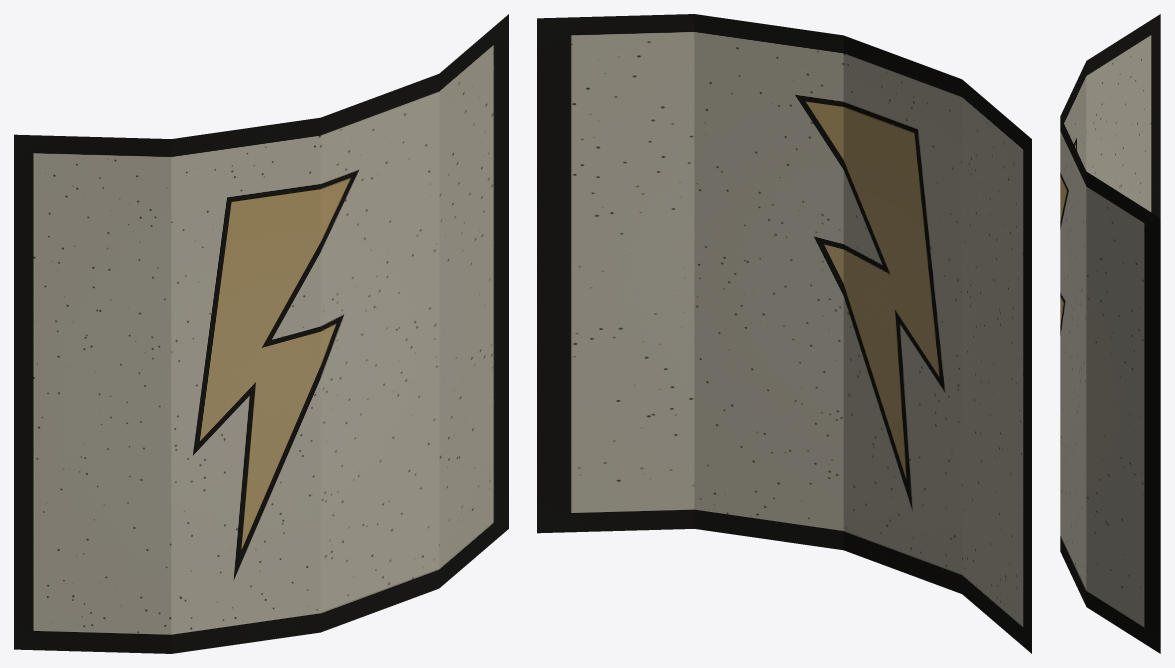
File: eletric_(pole)_(transformer).001_lighting_poster_0_lev3.glb
The picture shows the model from 3 angles, left to right: view 1: azimuth 30°, elevation 25°; view 2: azimuth 150°, elevation 25°; view 3: azimuth 270°, elevation 25°; orthographic projection. The views are drawn at different scales.
Parts seen in each view (by area): view 1: eletric_(pole)_(transformer).001_lighting_poster_0_lev3; view 2: eletric_(pole)_(transformer).001_lighting_poster_0_lev3; view 3: eletric_(pole)_(transformer).001_lighting_poster_0_lev3.
Part boxes in pixels (x1,y1,x2,y2): eletric_(pole)_(transformer).001_lighting_poster_0_lev3: [14, 14, 508, 653]; eletric_(pole)_(transformer).001_lighting_poster_0_lev3: [537, 14, 1031, 653]; eletric_(pole)_(transformer).001_lighting_poster_0_lev3: [1060, 14, 1160, 653].
Bounding box in the file's own units: 0.2554 × 0.254 × 0.0529.
Materials: 1 (1 with a texture image).
